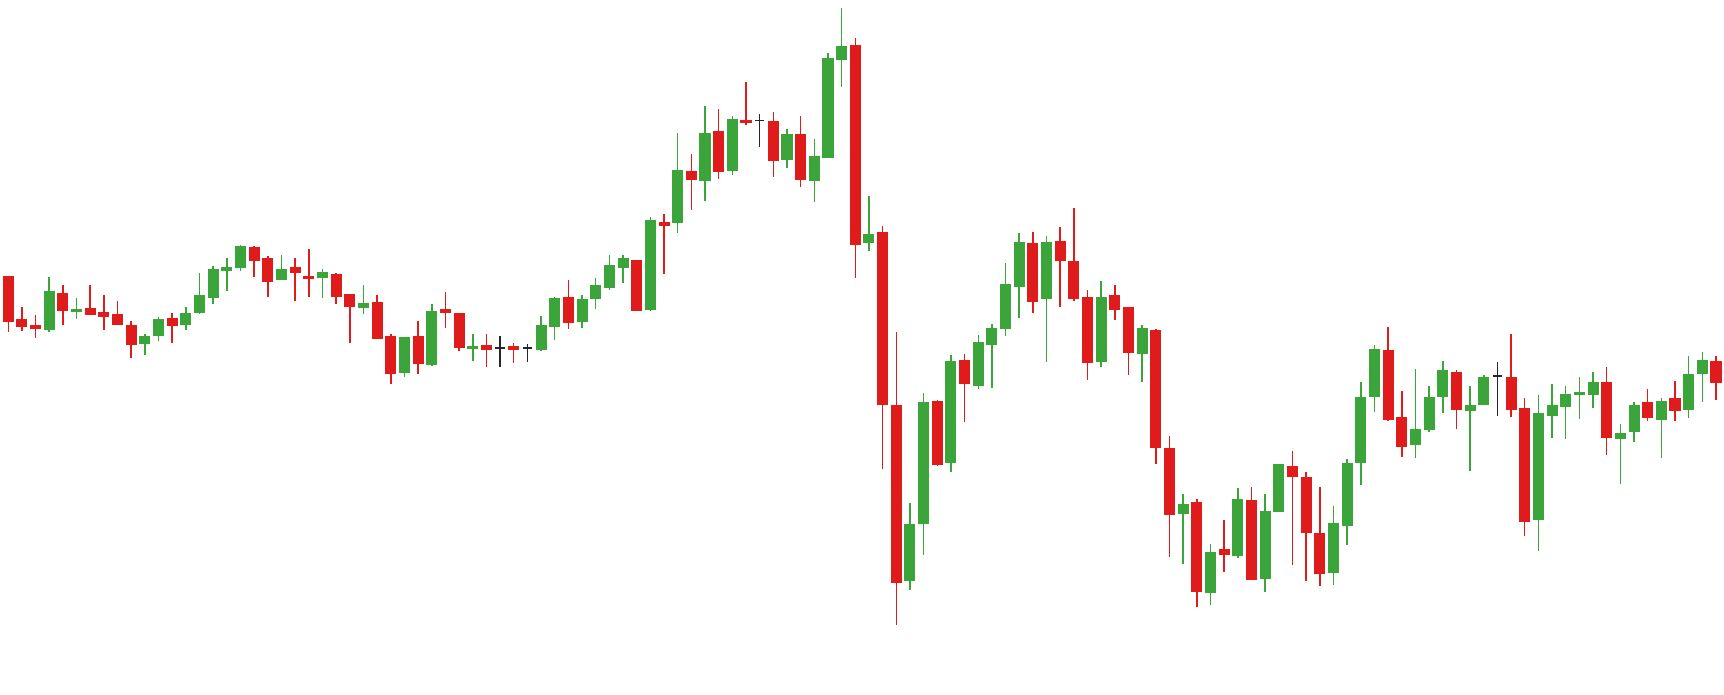buy: (1465, 391, 1547, 554)
sell: (738, 1, 863, 146)
